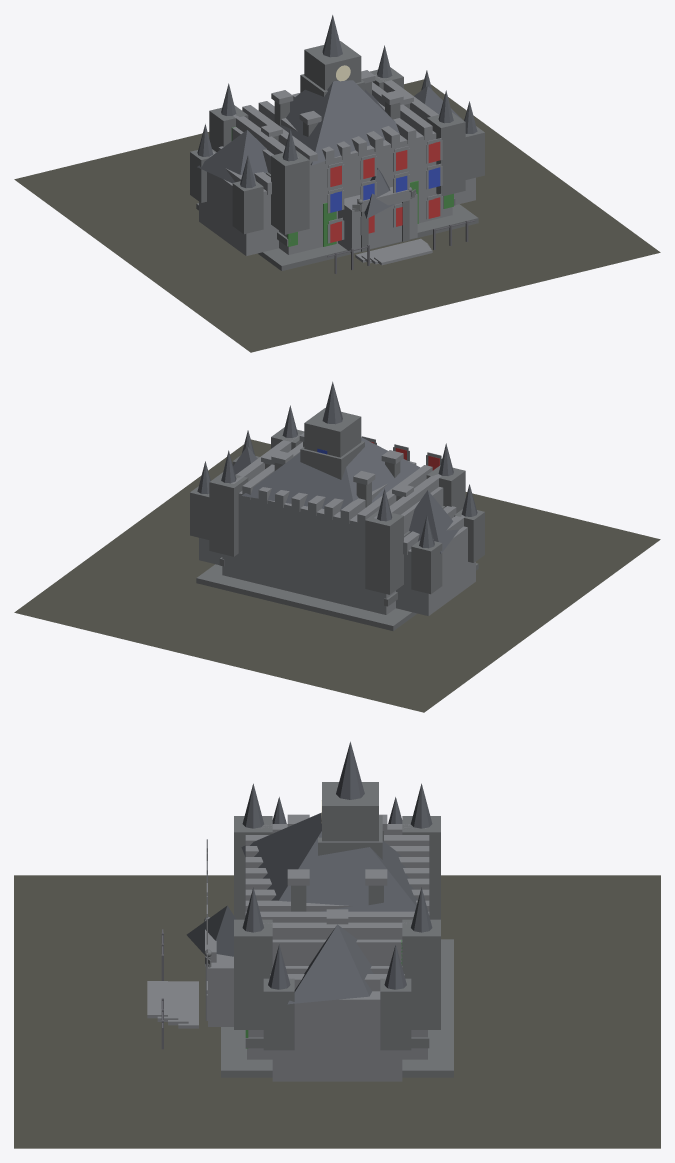
Rendered from gen_1772922054799.glb.
3 views of the same model, one above another, from view 1: azimuth 30°, elevation 25°; view 2: azimuth 150°, elevation 25°; view 3: azimuth 270°, elevation 25° (orthographic). The views are drawn at different scales.
Visible parts, largest first — view 1: Ground, MainBody, RoofMain, WingLeft, Turret0, Foundation, Porch, Turret1, RoofWingL, TowerMid, WingTurret0, Turret2 (+9 smaller); view 2: Ground, MainBody, RoofMain, Foundation, WingLeft, Turret2, Turret3, TowerMid, WingTurret1, RoofWingL, TowerBase, Turret0 (+7 smaller); view 3: Ground, WingRight, RoofMain, Foundation, RoofWingR, Turret1, Turret3, TowerMid, MainBody, WingTurret3, WingTurret2, BattleM9 (+10 smaller).
Part boxes in pixels (x1,y1,x2,y2): Ground: [14, 79, 660, 352]; MainBody: [232, 127, 452, 254]; RoofMain: [280, 80, 399, 165]; WingLeft: [199, 172, 278, 255]; Turret0: [271, 150, 309, 234]; Foundation: [196, 203, 478, 270]; Porch: [338, 187, 417, 252]; Turret1: [426, 112, 465, 196]; RoofWingL: [197, 130, 267, 183]; TowerMid: [304, 41, 361, 90]; WingTurret0: [232, 180, 263, 234]; Turret2: [209, 105, 248, 151]; Ground: [14, 439, 660, 712]; MainBody: [222, 487, 443, 614]; RoofMain: [242, 437, 420, 511]; Foundation: [196, 563, 478, 630]; WingLeft: [396, 526, 475, 615]; Turret2: [365, 510, 403, 594]; Turret3: [209, 472, 248, 556]; TowerMid: [304, 408, 361, 457]; WingTurret1: [411, 540, 442, 594]; RoofWingL: [409, 490, 458, 553]; TowerBase: [300, 441, 364, 479]; Turret0: [426, 465, 465, 513]; Ground: [14, 875, 660, 1148]; WingRight: [272, 991, 402, 1081]; RoofMain: [241, 812, 417, 911]; Foundation: [221, 939, 453, 1077]; RoofWingR: [287, 924, 373, 1004]; Turret1: [234, 919, 272, 1029]; Turret3: [402, 919, 440, 1029]; TowerMid: [322, 782, 378, 841]; MainBody: [247, 939, 427, 1059]; WingTurret3: [380, 978, 411, 1050]; WingTurret2: [263, 978, 294, 1050]; BattleM9: [263, 922, 410, 939].
Size of the model in its own units: 50 by 23.1 by 50.
